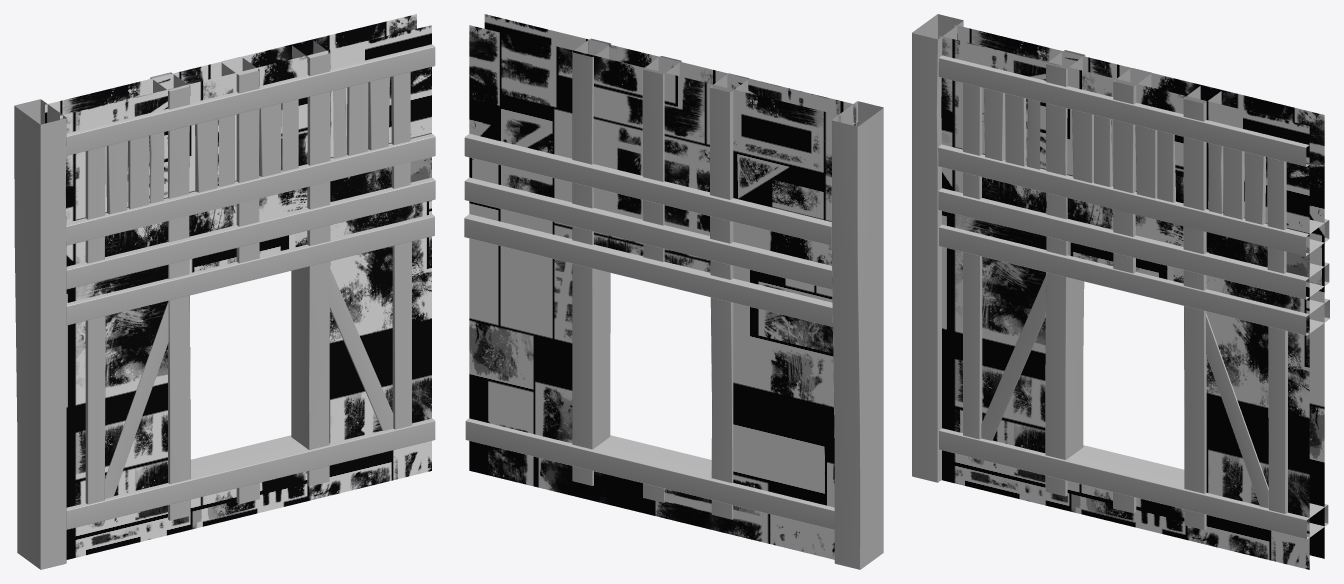
The model's file is SM_wall01_Wall_018.fbx.
3 renders of one model, left to right at view 1: azimuth 30°, elevation 25°; view 2: azimuth 150°, elevation 25°; view 3: azimuth 330°, elevation 25°, orthographic.
Parts seen in each view (by area): view 1: SM_wall01_Wall_018_LOD0; view 2: SM_wall01_Wall_018_LOD0; view 3: SM_wall01_Wall_018_LOD0.
Part boxes in pixels (left/top/right/bottom): SM_wall01_Wall_018_LOD0: left=14, top=14, right=435, bottom=569; SM_wall01_Wall_018_LOD0: left=464, top=14, right=883, bottom=569; SM_wall01_Wall_018_LOD0: left=912, top=14, right=1329, bottom=569.
Size of the model in its own units: 300 by 34.41 by 323.
